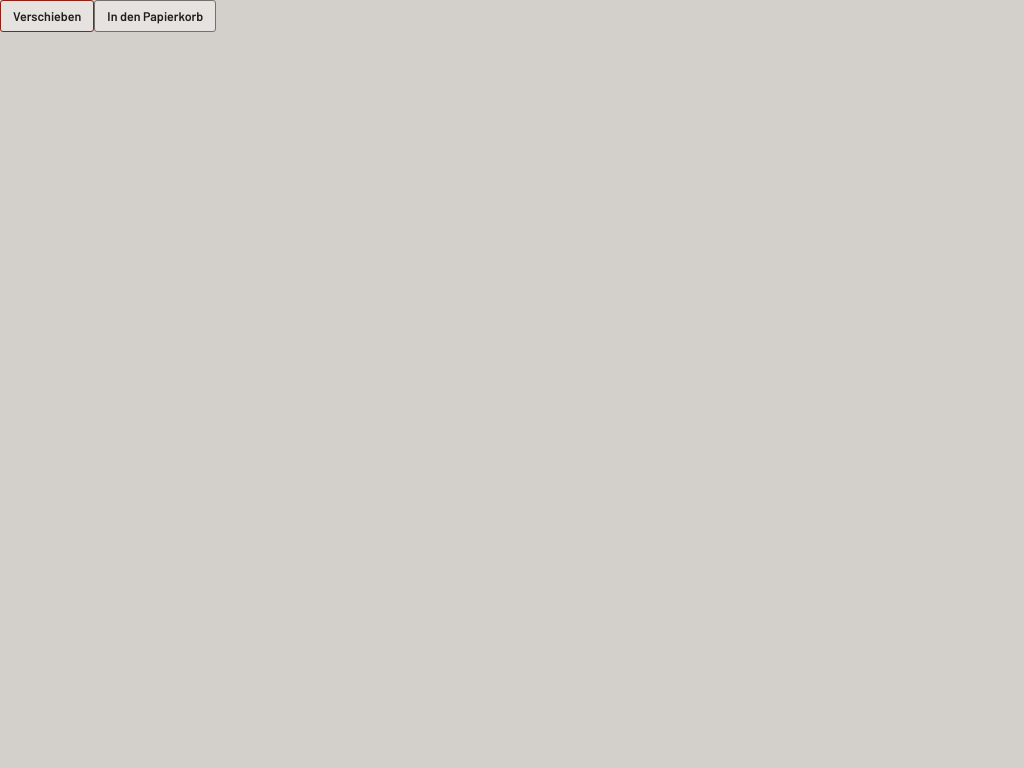
Test: omits the hidden part when everything selected is visible
The image size is (1024, 768).
Click the button "In den Papierkorb".
click(155, 16)  # box [94,0,216,32]
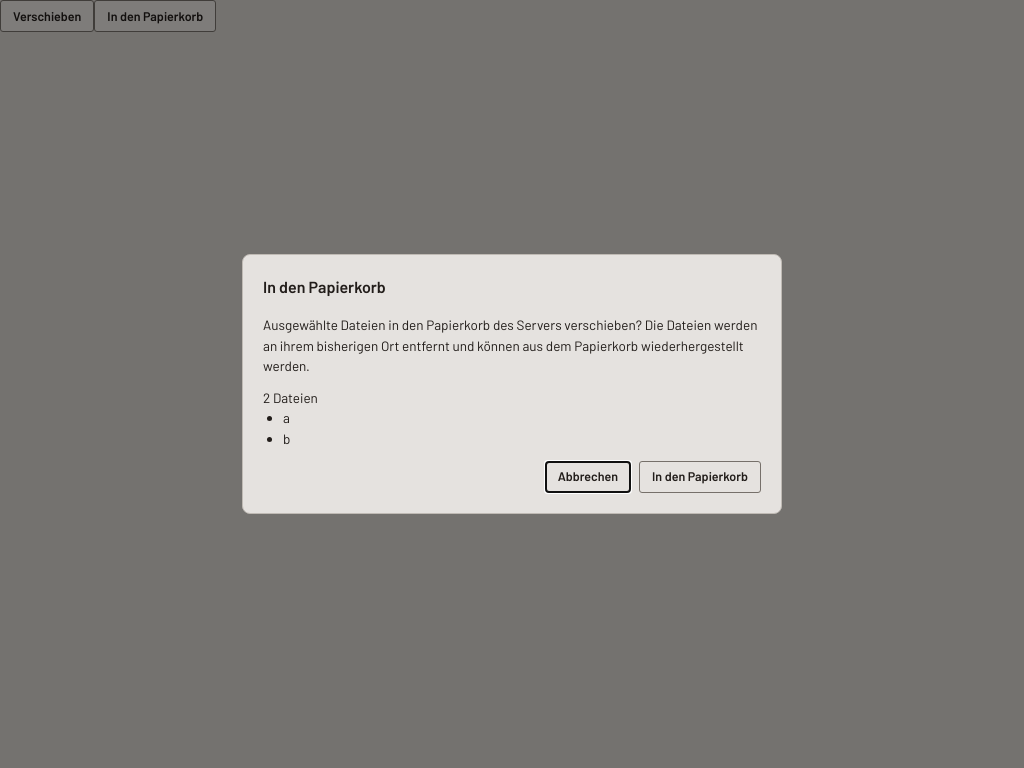
Result: the text "2 Dateien" is shown at [263,389,318,406]
